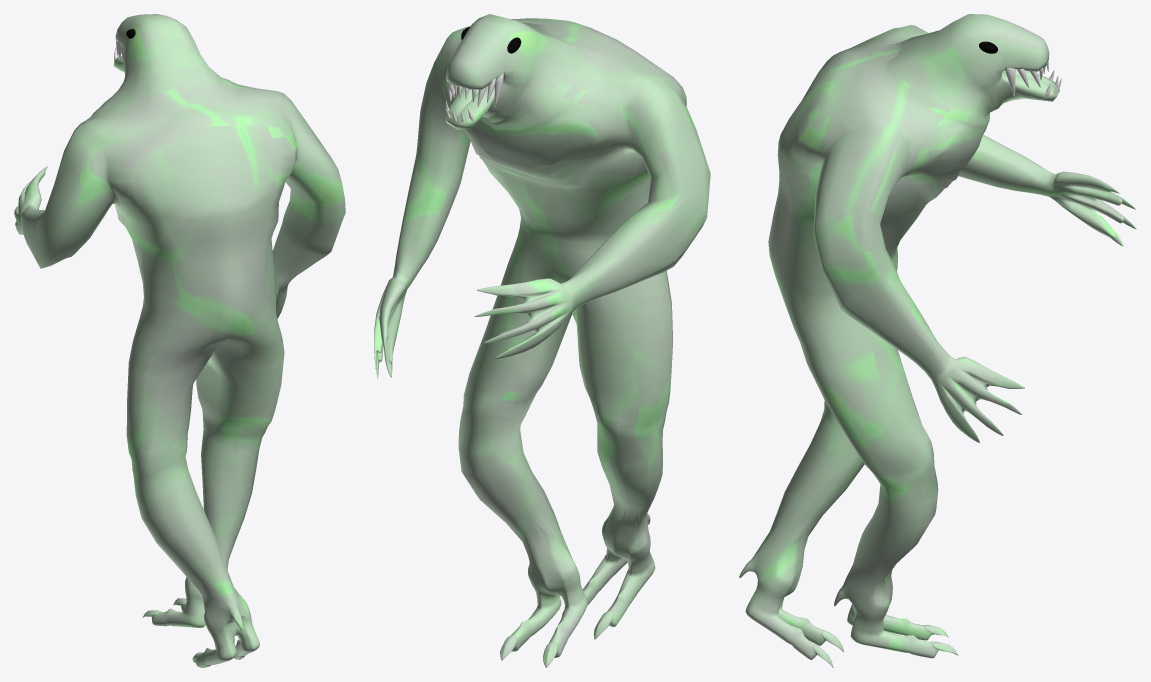
Rendered from Berserkercorrer.0071.obj.
3 renders of one model, left to right at view 1: azimuth 30°, elevation 25°; view 2: azimuth 150°, elevation 25°; view 3: azimuth 270°, elevation 25°, orthographic. The views are drawn at different scales.
Parts seen in each view (by area): view 1: polySurface27; view 2: polySurface27; view 3: polySurface27.
Part boxes in pixels (x1,y1,x2,y2): polySurface27: (14,14,345,667); polySurface27: (374,14,710,667); polySurface27: (739,14,1136,667).
Size of the model in its own units: 11.37 by 23.78 by 13.25.
Materials: 1 (1 with a texture image).
